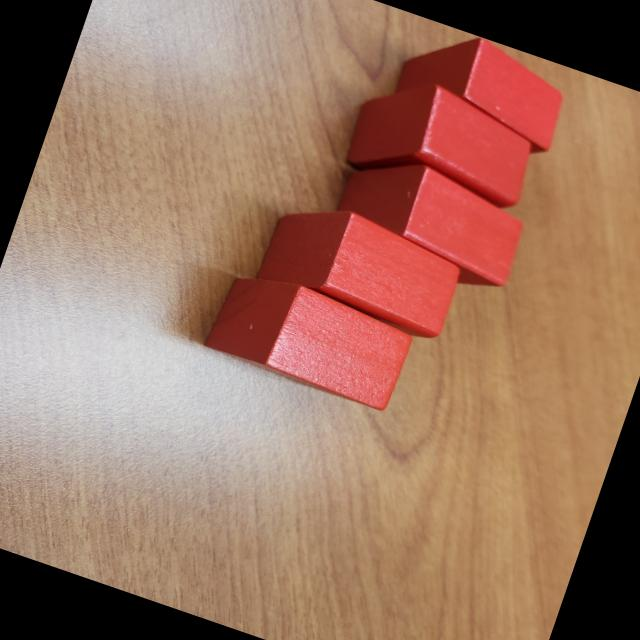red: (318, 140, 540, 303), (333, 61, 548, 226), (248, 187, 470, 346), (200, 260, 418, 412), (391, 18, 577, 161)
